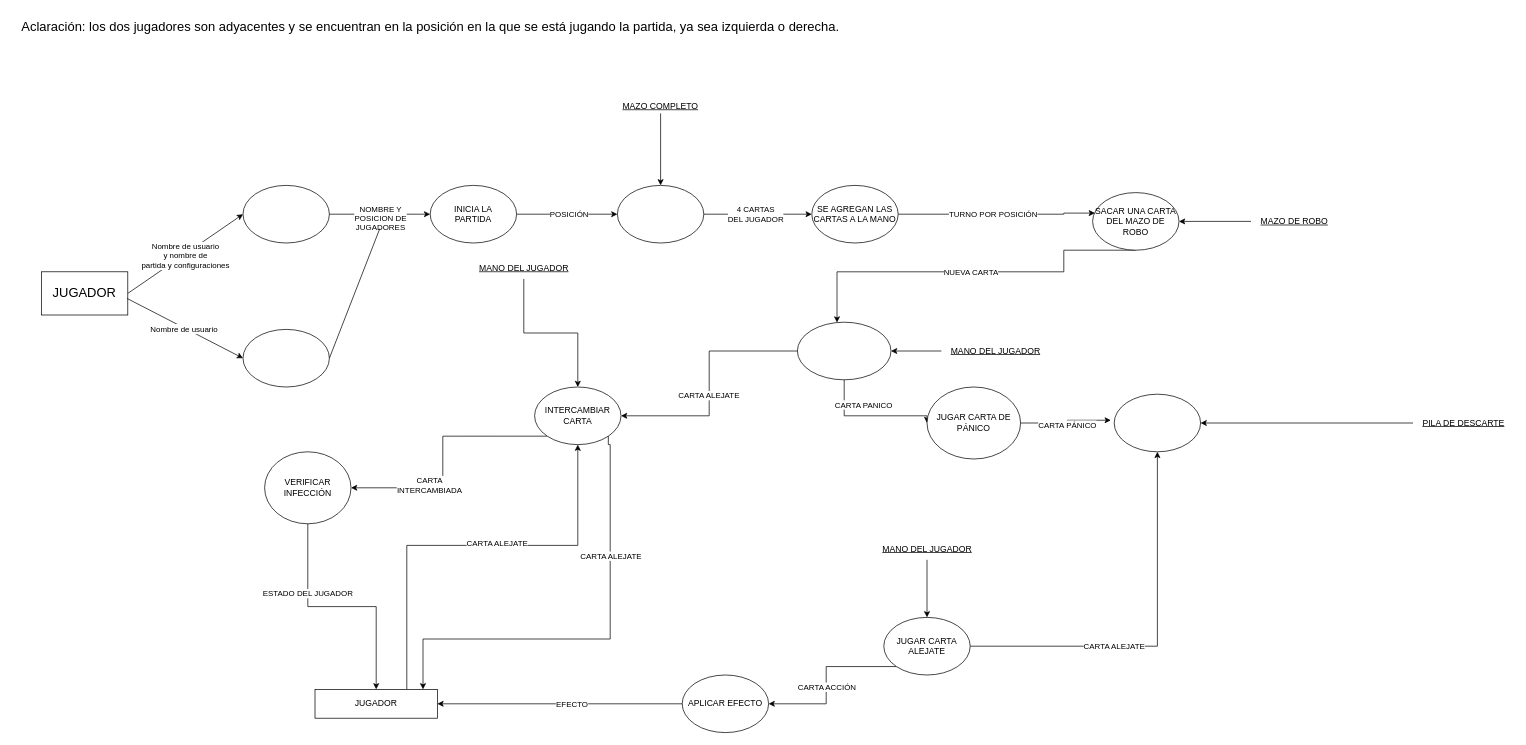
Some shapes in this 1526 by 745 pixel diagram are drawn without their labels. The box of each missing label's shape, as (x1, y1, x2, y2) in pixels:
AGREGAR CARTA A LA MANO: (797, 321, 891, 380)
CREAR PARTIDA: (242, 185, 329, 243)
DESCARTAR CARTA: (1113, 393, 1201, 452)
SE REPARTEN LAS CARTAS: (617, 185, 704, 243)
UNIRSE A PARTIDA: (242, 329, 329, 387)
